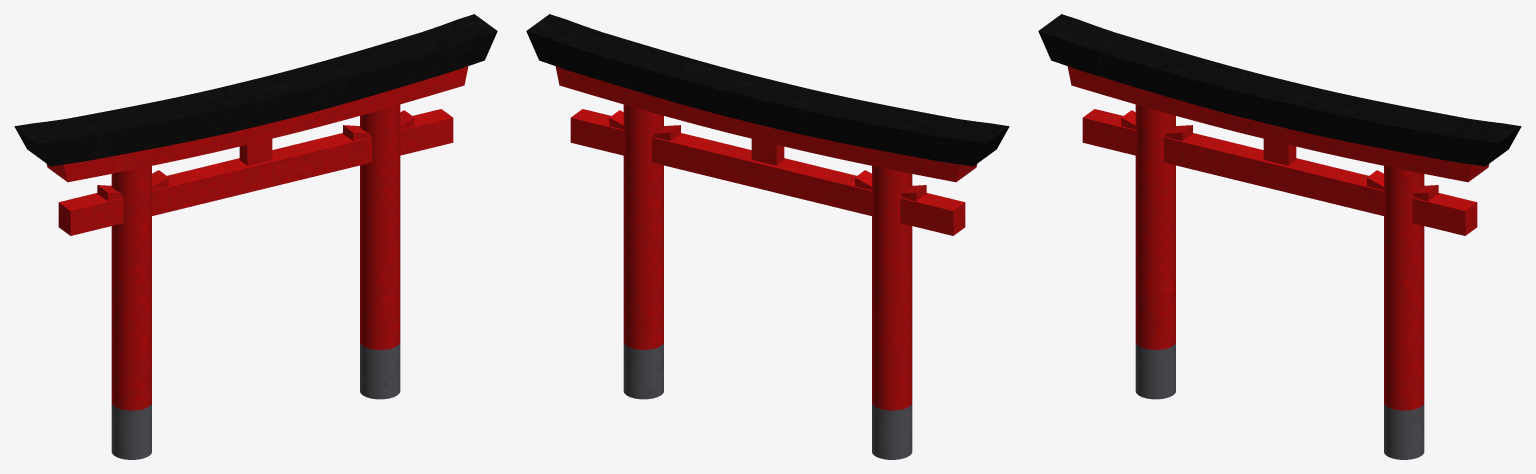
Rendered from Torii.fbx.
The picture shows the model from 3 angles, left to right: view 1: azimuth 30°, elevation 25°; view 2: azimuth 150°, elevation 25°; view 3: azimuth 330°, elevation 25°; orthographic projection.
Parts seen in each view (by area): view 1: Torii; view 2: Torii; view 3: Torii.
Part boxes in pixels (<box>): Torii: <box>14,14,497,459</box>; Torii: <box>526,14,1009,459</box>; Torii: <box>1038,14,1521,459</box>.
Size of the model in its own units: 387 by 275 by 34.04.
